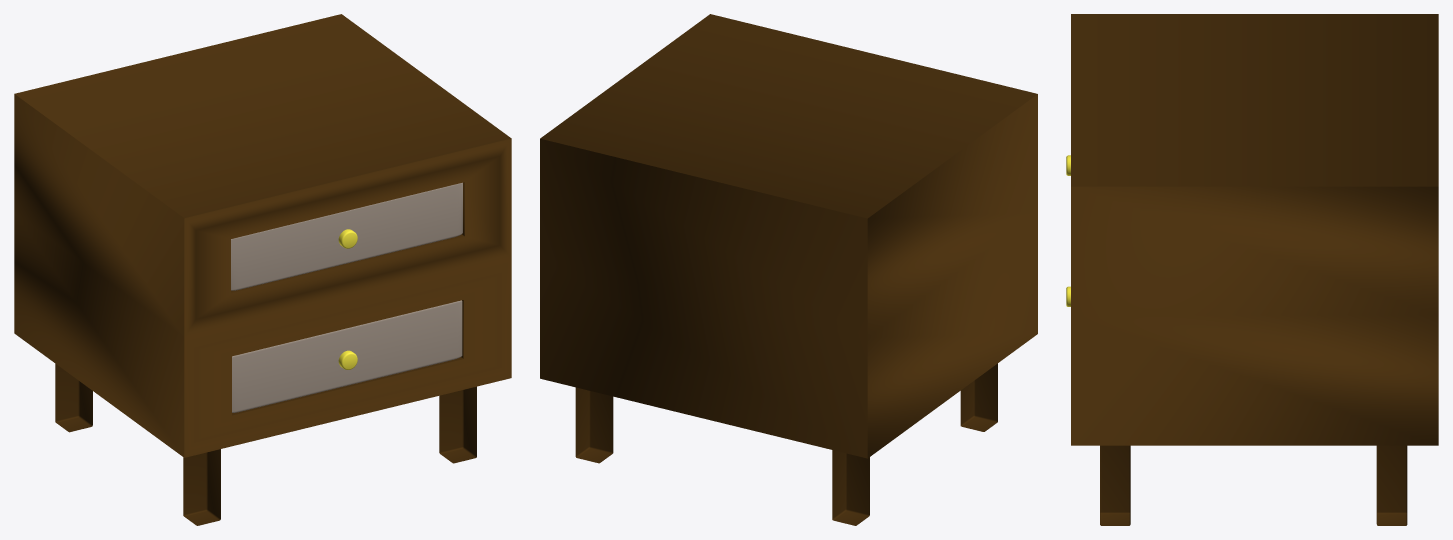
File: Metcalf_Nightstand_04.fbx
The picture shows the model from 3 angles, left to right: view 1: azimuth 30°, elevation 25°; view 2: azimuth 150°, elevation 25°; view 3: azimuth 270°, elevation 25°; orthographic projection. The views are drawn at different scales.
Parts seen in each view (by area): view 1: Body, Drawer2, Drawer1, Leg3, Leg2, Leg4; view 2: Body, Leg1, Leg4, Leg2; view 3: Body, Leg1, Leg3.
Boxes of the visible parts, x1,y1,x2,y2 form: Body: (14, 14, 511, 457); Drawer2: (232, 300, 462, 412); Drawer1: (231, 182, 462, 290); Leg3: (439, 386, 476, 463); Leg2: (183, 449, 220, 525); Leg4: (55, 364, 92, 432); Body: (540, 14, 1037, 458); Leg1: (575, 387, 613, 463); Leg4: (832, 450, 869, 525); Leg2: (960, 363, 997, 431); Body: (1071, 14, 1438, 445); Leg1: (1376, 445, 1407, 525); Leg3: (1100, 445, 1130, 525).
Size of the model in its own units: 610 by 578 by 556.
